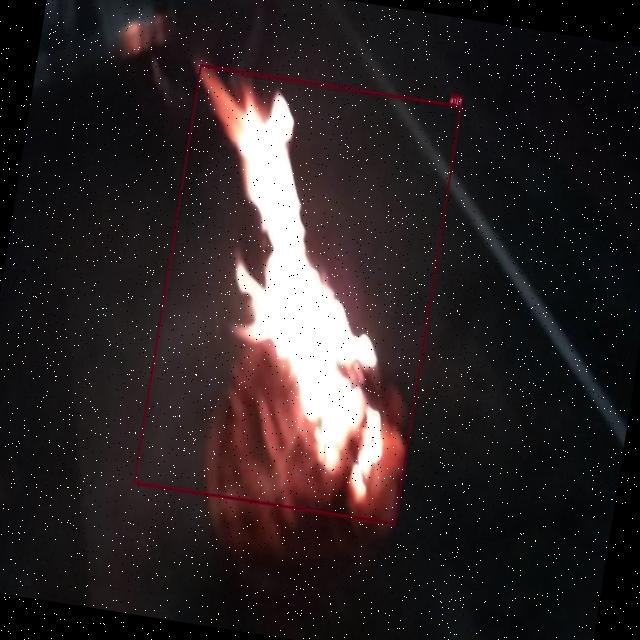fire: (135, 64, 462, 525)
